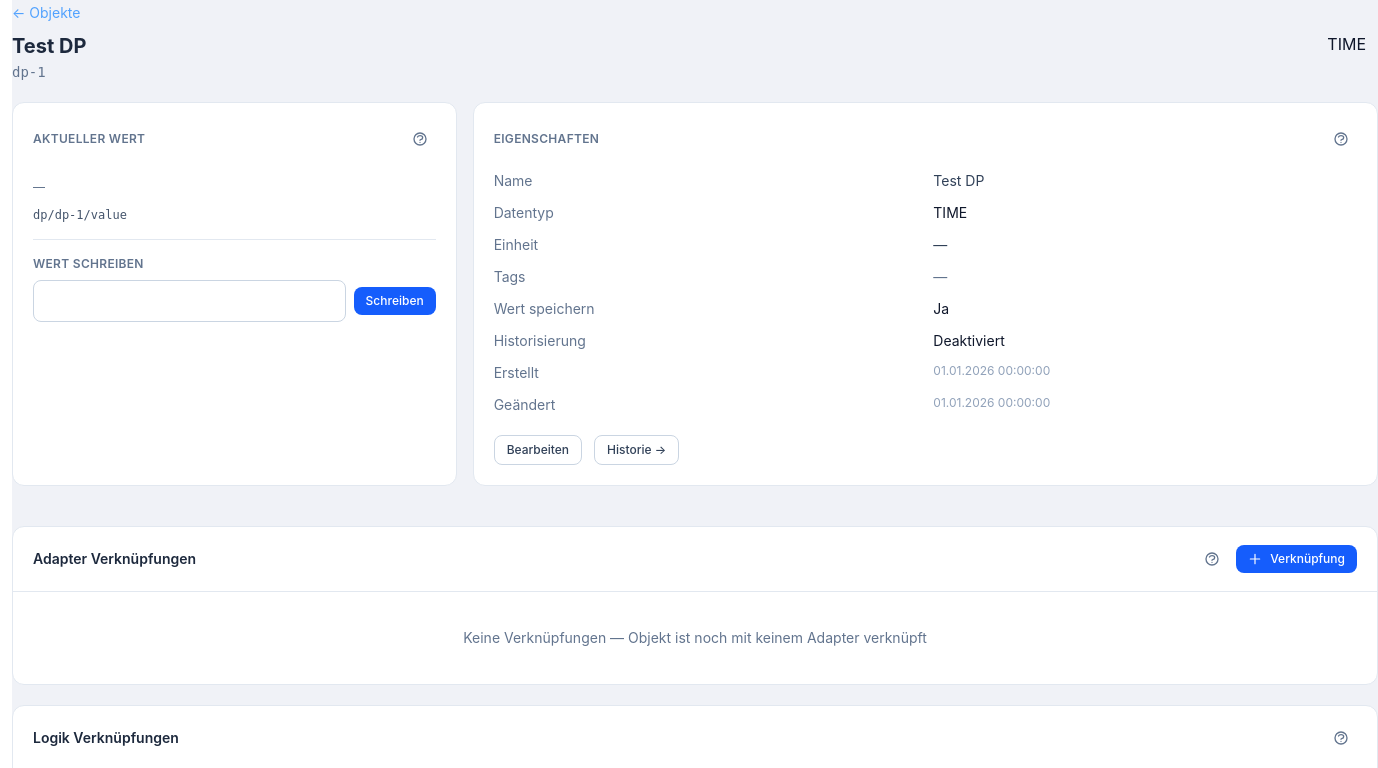
Test: DataPointDetailView — TIME write › shows error for invalid time value
The image size is (1378, 768).
In the field: point(189, 301) [33,280,346,322], type "nicht-valide"
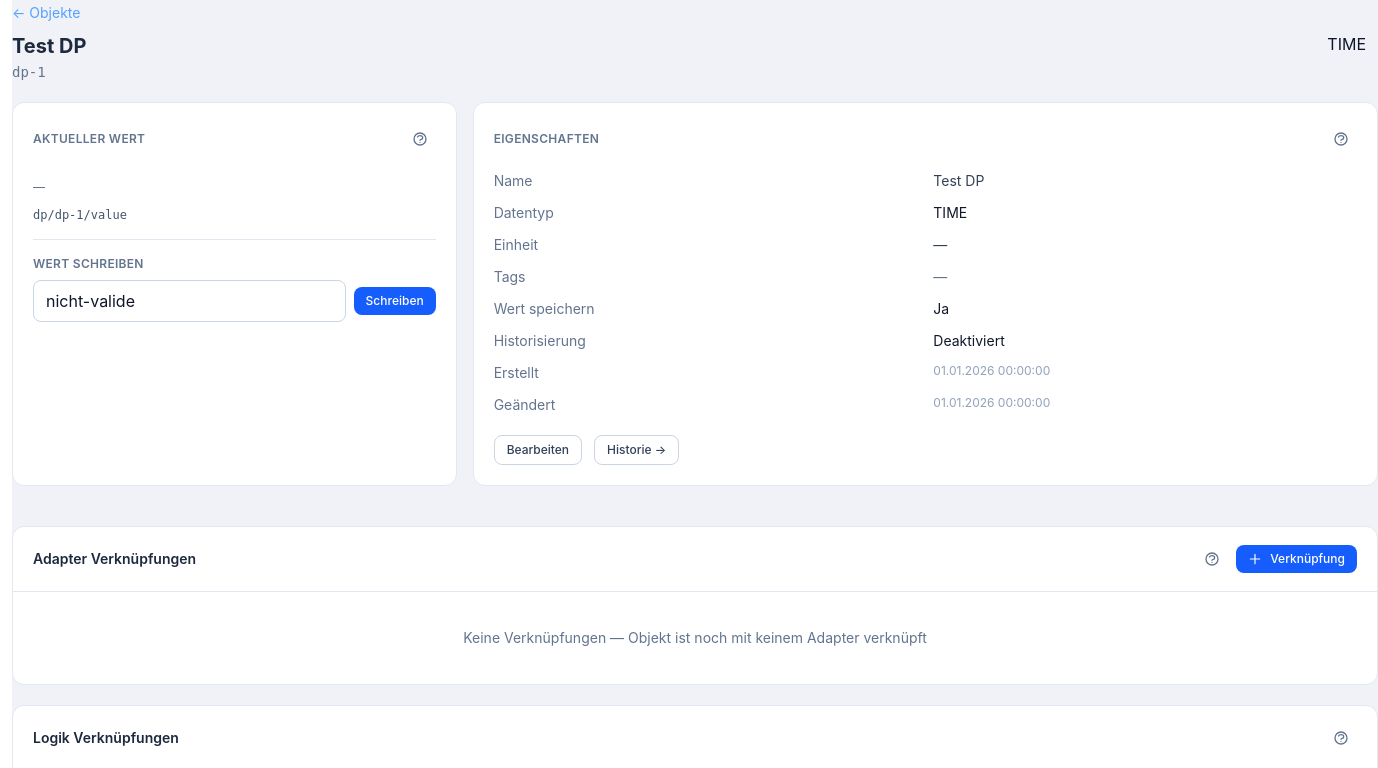
Click the button "Schreiben": point(395, 301) [354,287,436,315]
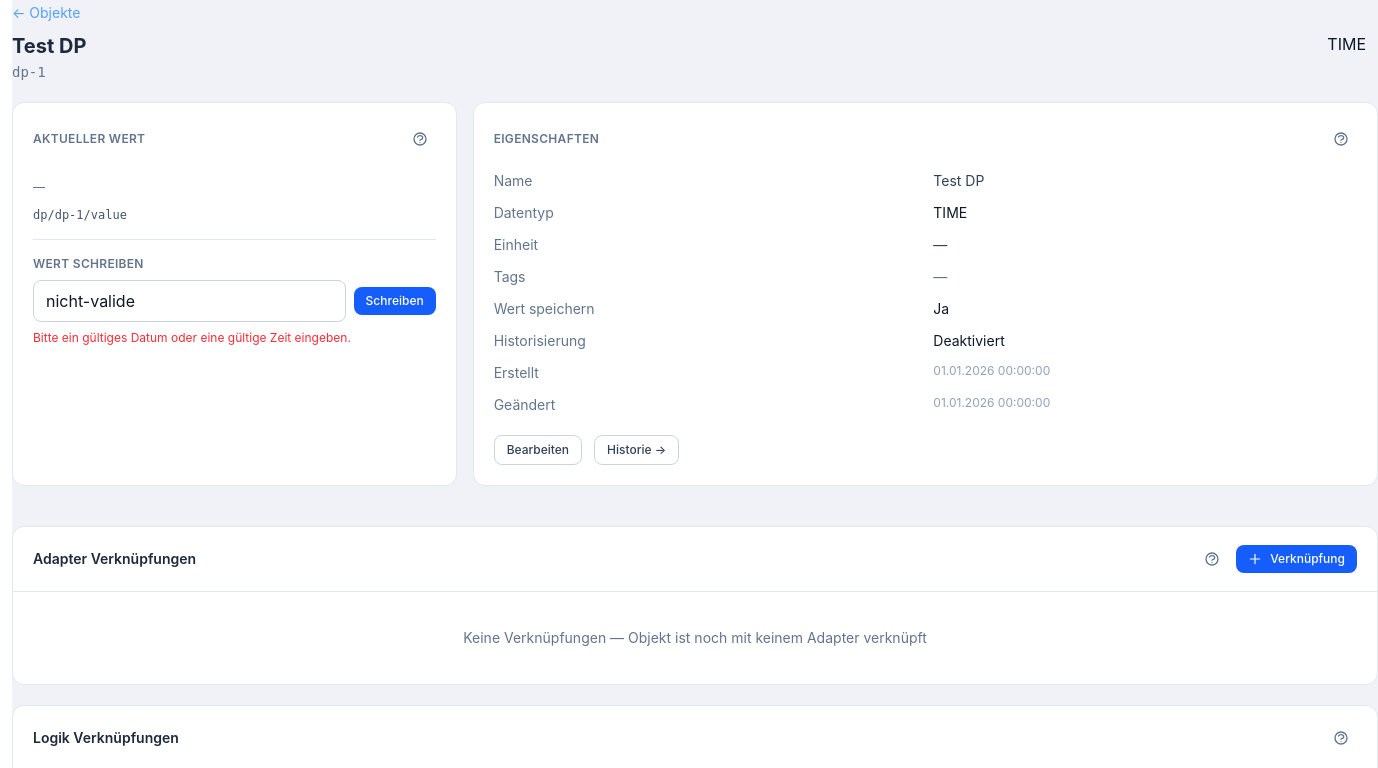
Expected: the text "Bitte ein gültiges Datum oder eine gültige Zeit eingeben." is shown, [33,330,351,345]
